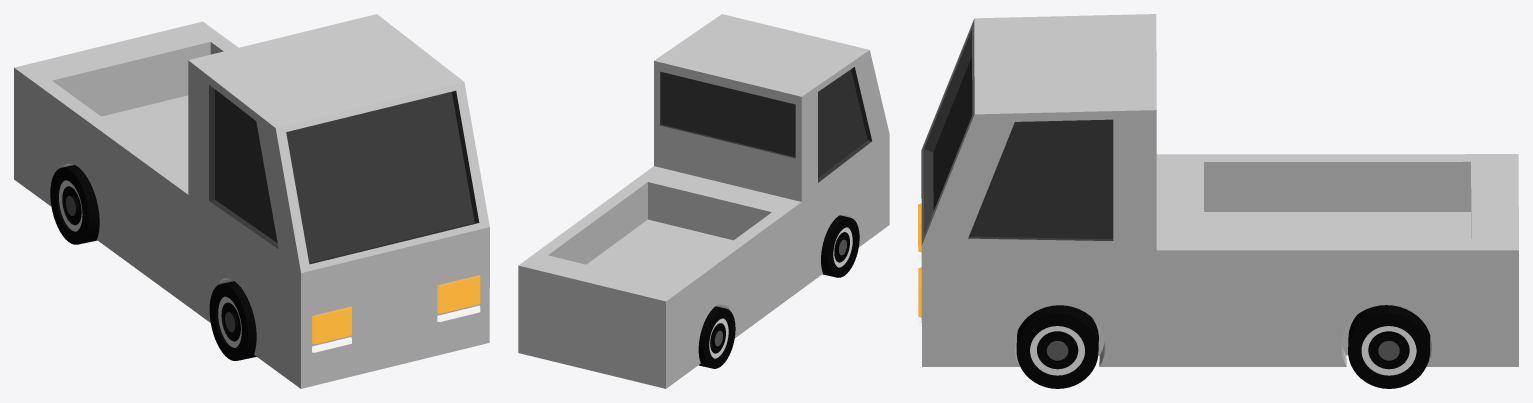
Rendered from Truck03.glb.
The picture shows the model from 3 angles, left to right: view 1: azimuth 30°, elevation 25°; view 2: azimuth 150°, elevation 25°; view 3: azimuth 270°, elevation 25°; orthographic projection. The views are drawn at different scales.
Parts seen in each view (by area): view 1: Cube.012; view 2: Cube.012; view 3: Cube.012.
Boxes of the visible parts, x1=… form: Cube.012: x1=14, y1=14, x2=489, y2=388; Cube.012: x1=518, y1=14, x2=889, y2=388; Cube.012: x1=918, y1=14, x2=1518, y2=388.
Size of the model in its own units: 1.43 by 1.72 by 3.41.
